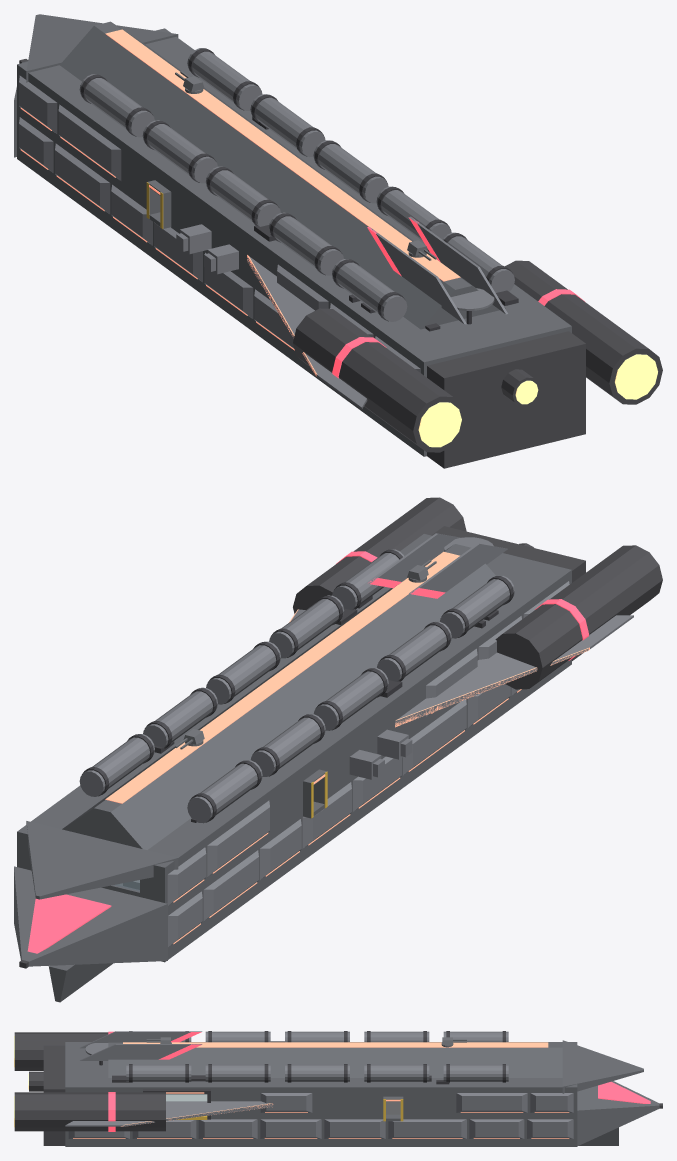
File: ship_SMALL_SUPPORT_v2.glb
3 views of the same model, one above another, from view 1: azimuth 30°, elevation 25°; view 2: azimuth 150°, elevation 25°; view 3: azimuth 270°, elevation 25° (orthographic). The views are drawn at different scales.
Parts seen in each view (by area): view 1: SMALL_SUPPORT_Hull-col, SMALL_SUPPORT_Armor, SMALL_SUPPORT_Engines, SMALL_SUPPORT_Lights, SMALL_SUPPORT_EngineGlow, SMALL_SUPPORT_Trim, SMALL_SUPPORT_Accent, SMALL_SUPPORT_EscapePod_2, SMALL_SUPPORT_EscapePod_1, SMALL_SUPPORT_Details; view 2: SMALL_SUPPORT_Hull-col, SMALL_SUPPORT_Armor, SMALL_SUPPORT_Engines, SMALL_SUPPORT_Lights, SMALL_SUPPORT_Accent, SMALL_SUPPORT_Trim, SMALL_SUPPORT_EscapePod_2, SMALL_SUPPORT_EscapePod_1; view 3: SMALL_SUPPORT_Hull-col, SMALL_SUPPORT_Armor, SMALL_SUPPORT_Engines, SMALL_SUPPORT_Lights, SMALL_SUPPORT_Trim, SMALL_SUPPORT_Accent, SMALL_SUPPORT_Details, SMALL_SUPPORT_CargoBayDoor-col, SMALL_SUPPORT_CargoBayShield, SMALL_SUPPORT_Hazard, SMALL_SUPPORT_Airlock_2_OuterDoor-col.
Boxes of the visible parts, x1,y1,x2,y2 form: SMALL_SUPPORT_Hull-col: [14, 14, 571, 456]; SMALL_SUPPORT_Armor: [19, 48, 514, 409]; SMALL_SUPPORT_Engines: [19, 59, 662, 468]; SMALL_SUPPORT_Lights: [20, 29, 460, 376]; SMALL_SUPPORT_EngineGlow: [418, 354, 657, 447]; SMALL_SUPPORT_Trim: [80, 48, 514, 324]; SMALL_SUPPORT_Accent: [332, 217, 584, 378]; SMALL_SUPPORT_EscapePod_2: [176, 224, 211, 253]; SMALL_SUPPORT_EscapePod_1: [204, 244, 238, 274]; SMALL_SUPPORT_Details: [252, 116, 518, 331]; SMALL_SUPPORT_Hull-col: [14, 534, 571, 1002]; SMALL_SUPPORT_Armor: [79, 533, 633, 947]; SMALL_SUPPORT_Engines: [19, 497, 662, 968]; SMALL_SUPPORT_Lights: [105, 551, 589, 944]; SMALL_SUPPORT_Accent: [27, 551, 589, 953]; SMALL_SUPPORT_Trim: [82, 549, 513, 822]; SMALL_SUPPORT_EscapePod_2: [349, 750, 384, 779]; SMALL_SUPPORT_EscapePod_1: [377, 729, 412, 759]; SMALL_SUPPORT_Hull-col: [65, 1040, 659, 1146]; SMALL_SUPPORT_Armor: [65, 1031, 573, 1138]; SMALL_SUPPORT_Engines: [14, 1032, 662, 1145]; SMALL_SUPPORT_Lights: [73, 1042, 569, 1138]; SMALL_SUPPORT_Trim: [99, 1031, 505, 1119]; SMALL_SUPPORT_Accent: [108, 1031, 650, 1131]; SMALL_SUPPORT_Details: [112, 1041, 449, 1084]; SMALL_SUPPORT_CargoBayDoor-col: [166, 1094, 207, 1101]; SMALL_SUPPORT_CargoBayShield: [166, 1094, 207, 1101]; SMALL_SUPPORT_Hazard: [176, 1099, 403, 1121]; SMALL_SUPPORT_Airlock_2_OuterDoor-col: [386, 1101, 400, 1114].
Bounding box in the file's own units: 27.41 × 16.45 × 90.
